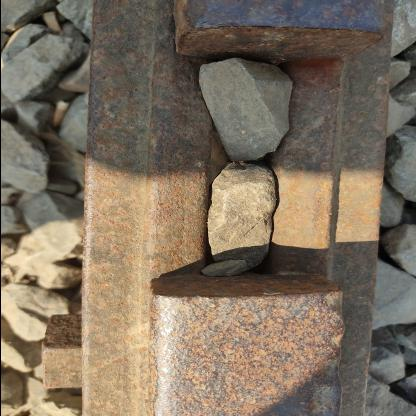Defective 2: (62, 1, 409, 415)
